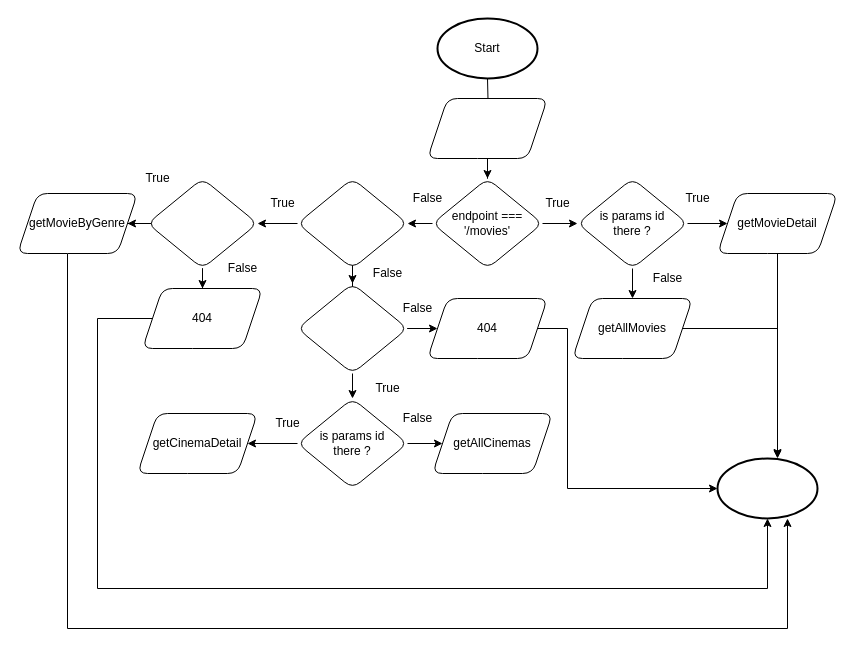
Image size: 855x654. Some labels were removed from this diagram. The box of each missing label's shape, as (x1, y1, x2, y2) in pixels:
End: (716, 457, 818, 519)
Endpoint: (426, 98, 548, 158)
endpoint === '/cinemas': (296, 282, 408, 374)
endpoint === '/genres': (296, 178, 408, 268)
is params genre there ?: (146, 178, 258, 268)
